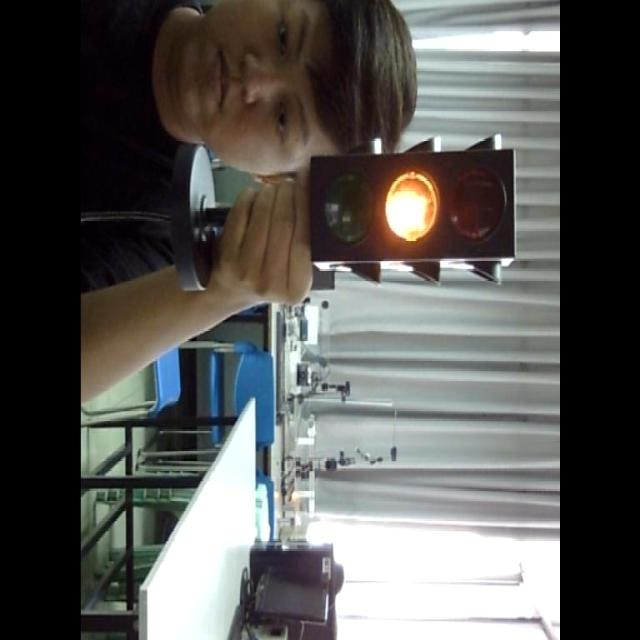Yellow: (300, 147, 526, 281)
